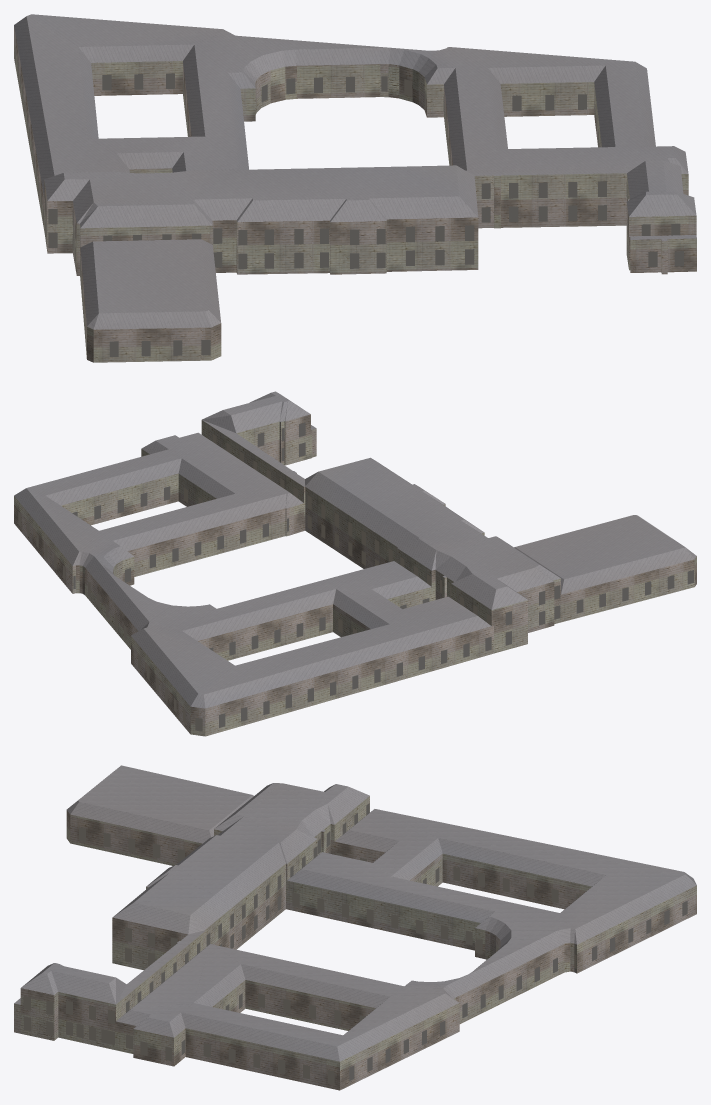
The model's file is palais-de-lelysee.glb.
3 renders of one model, top to bottom at view 1: azimuth 30°, elevation 25°; view 2: azimuth 150°, elevation 25°; view 3: azimuth 270°, elevation 25°, orthographic. The views are drawn at different scales.
Visible parts, largest first — view 1: roof, stone, window; view 2: roof, stone, window; view 3: roof, stone, window.
Part boxes in pixels (left/top/right/bottom): roof: left=14, top=14, right=696, bottom=329; stone: left=14, top=26, right=696, bottom=362; window: left=15, top=47, right=683, bottom=356; roof: left=14, top=391, right=696, bottom=708; stone: left=14, top=414, right=696, bottom=736; window: left=18, top=422, right=693, bottom=731; roof: left=14, top=765, right=696, bottom=1061; stone: left=14, top=796, right=696, bottom=1090; window: left=24, top=803, right=687, bottom=1084.
Size of the model in its own units: 130 by 12 by 129.
Materials: 3 (3 with a texture image).
